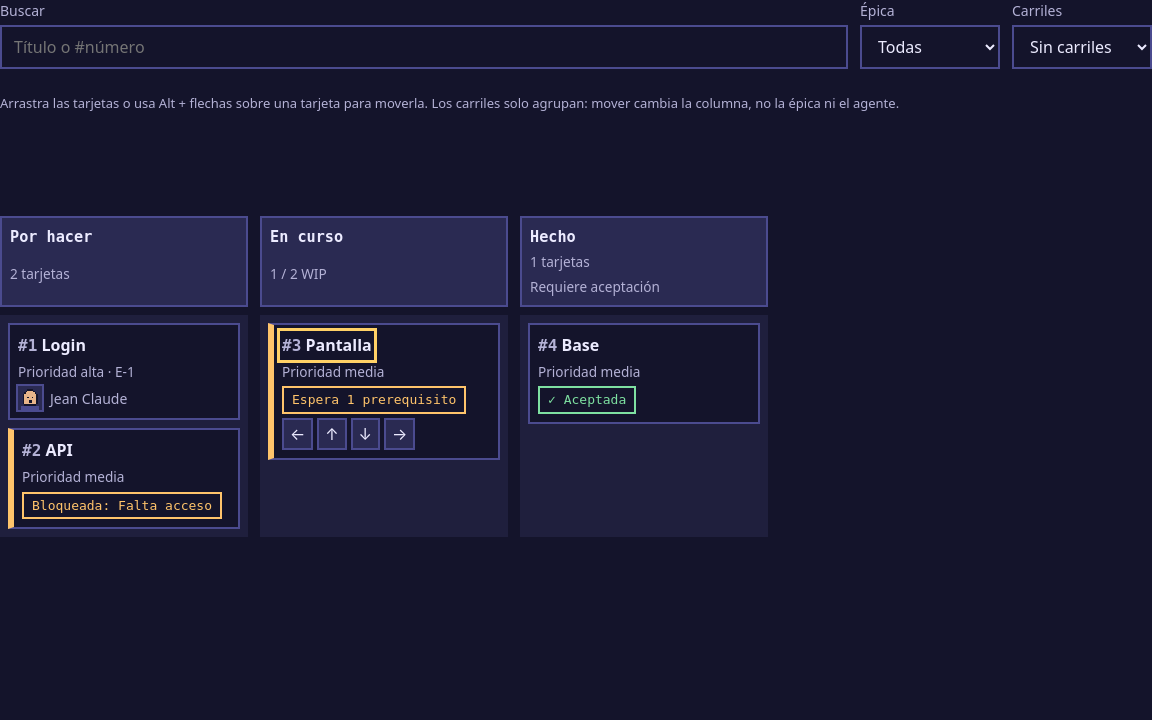
Test: Board › soltar en «hecho» abre la aceptación; cancelar deja la tarjeta
The width and height of the screenshot is (1152, 720).
Type keys "{Alt>}{ArrowRight}{/Alt}"
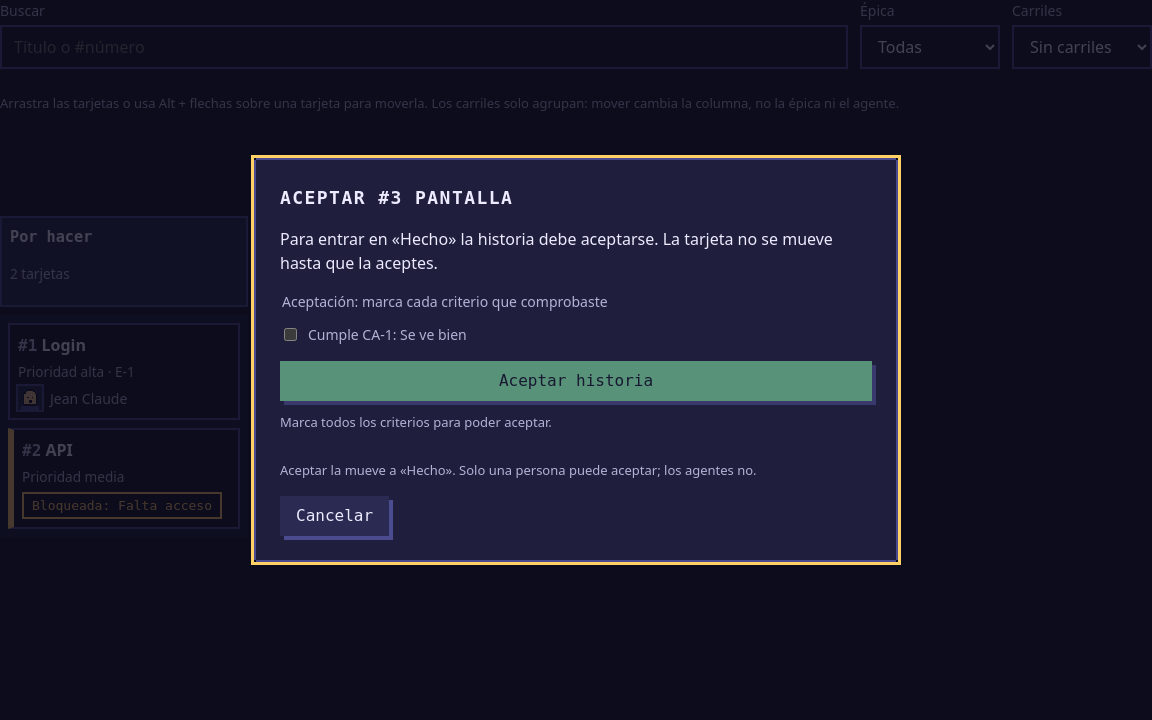
Expected: the button "#3 Pantalla" is shown, top-left (282, 333), bottom-right (372, 358)
Click the button "Cancelar" at (335, 516), box top-left (280, 496), bottom-right (389, 536)
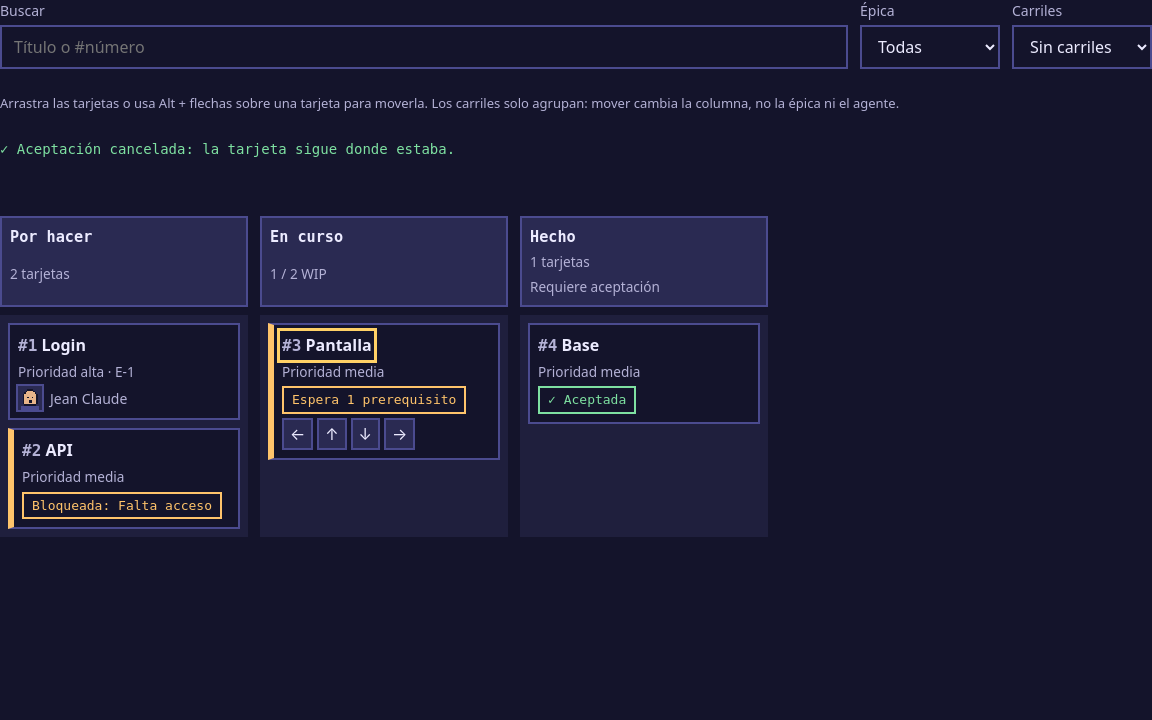
Now the dialog is gone
Type keys "{Alt>}{ArrowRight}{/Alt}"
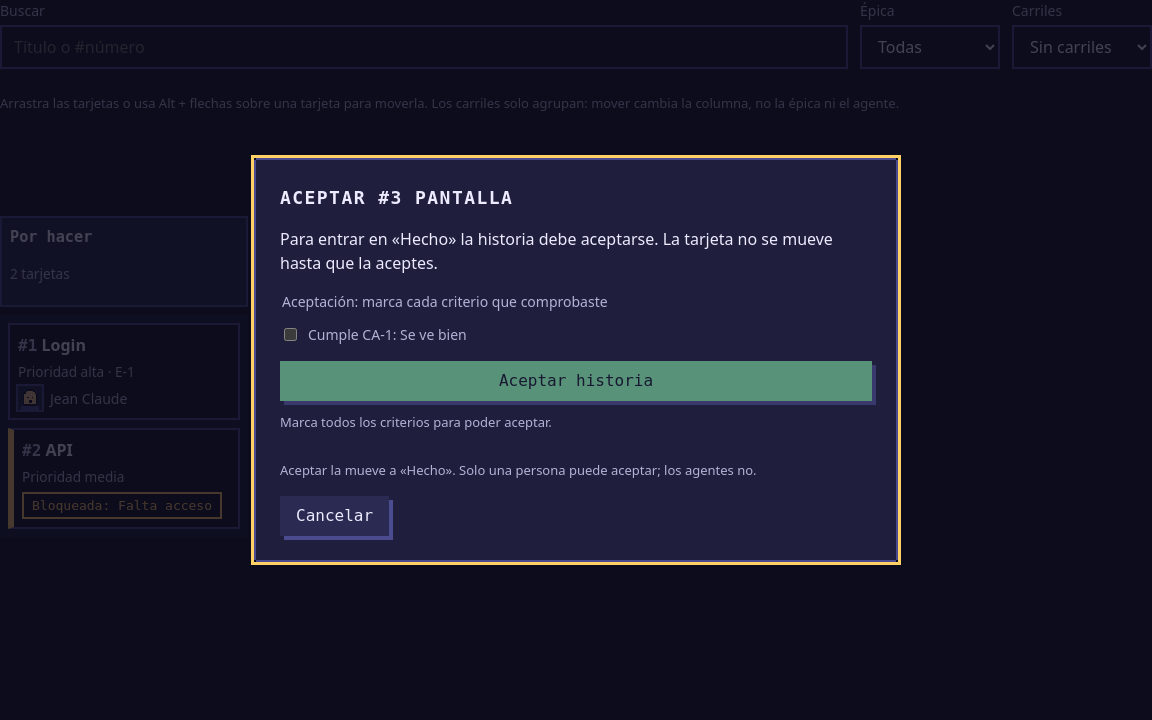
Click the checkbox labelled "Cumple CA-1: Se ve bien" at (290, 334), box top-left (284, 328), bottom-right (297, 341)
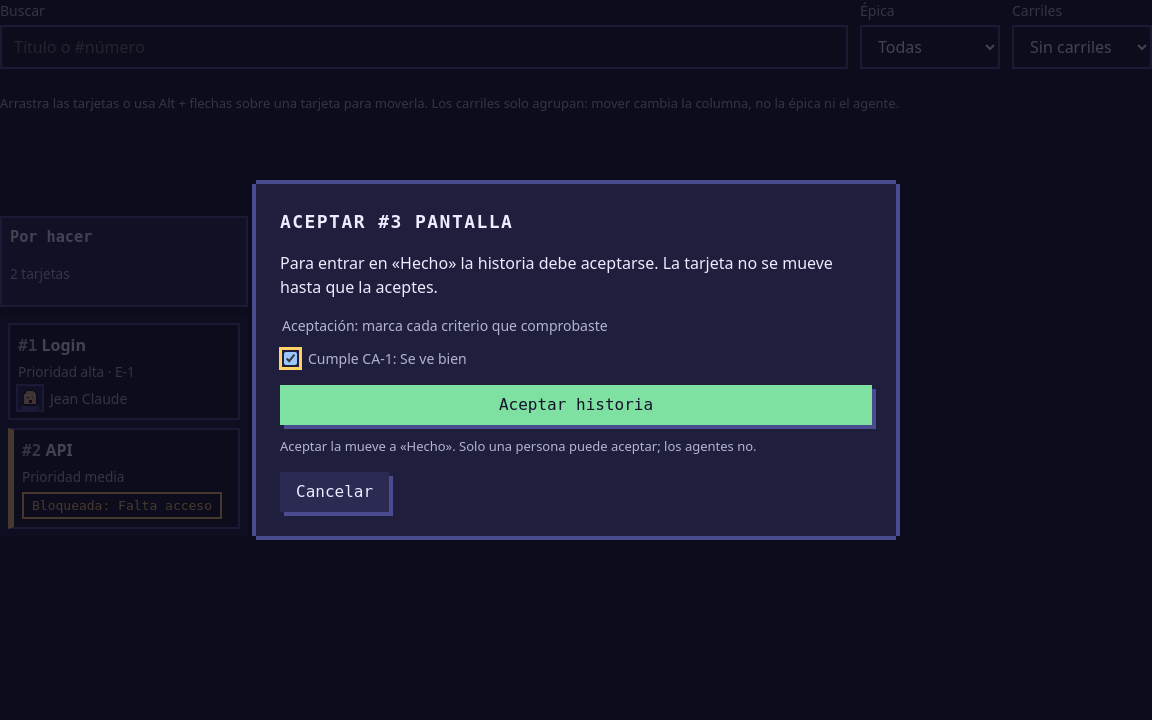
Click the button "Aceptar historia" at (576, 405), box top-left (280, 385), bottom-right (872, 425)
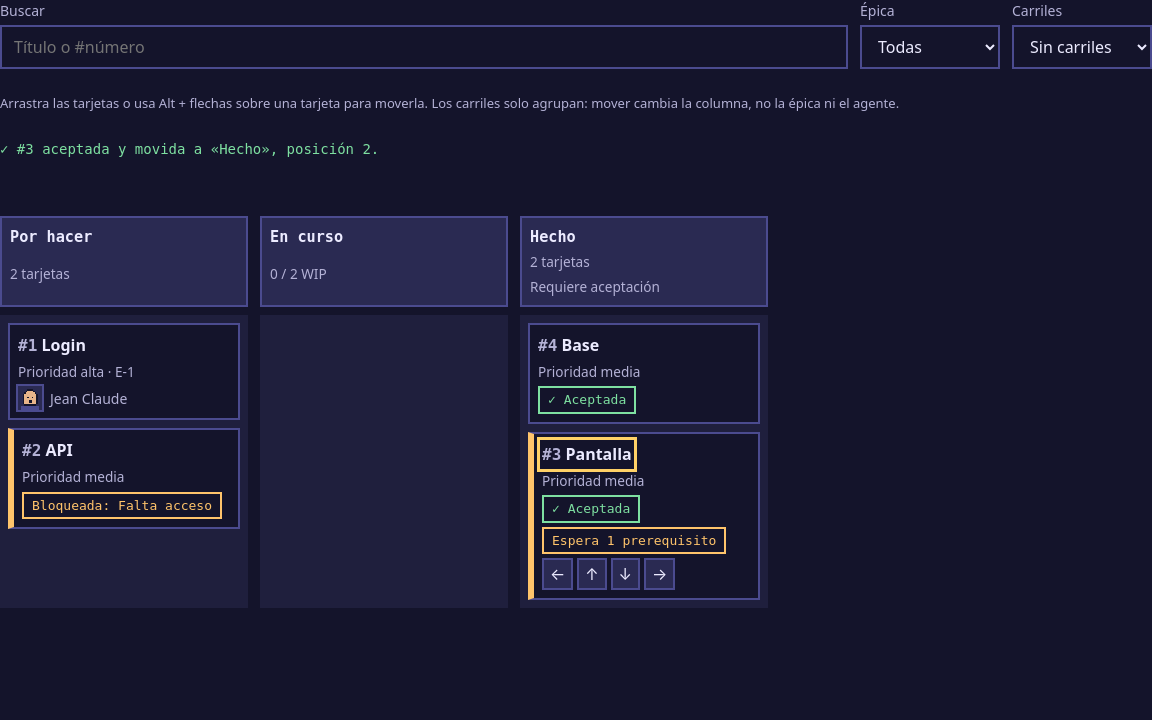
Now the text "✓ #3 aceptada y movida a «Hecho», posición 2." is shown, box top-left (0, 140), bottom-right (379, 156)
